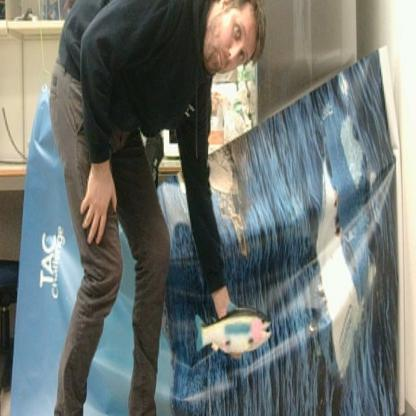rubberfish: (195, 302, 272, 355)
